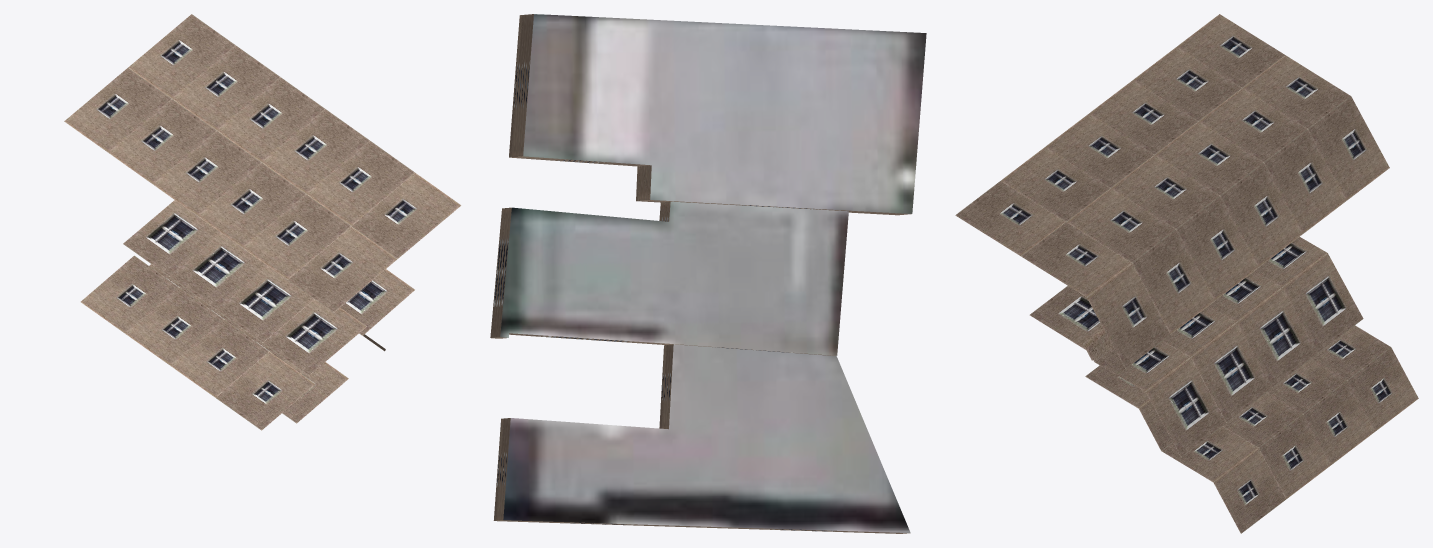
3 views of the same model, side by side, from view 1: azimuth 30°, elevation 25°; view 2: azimuth 150°, elevation 25°; view 3: azimuth 270°, elevation 25° (orthographic). The views are drawn at different scales.
Bounding box in the file's own units: 23.17 × 25.28 × 26.05.
Materials: 8 (8 with a texture image).
